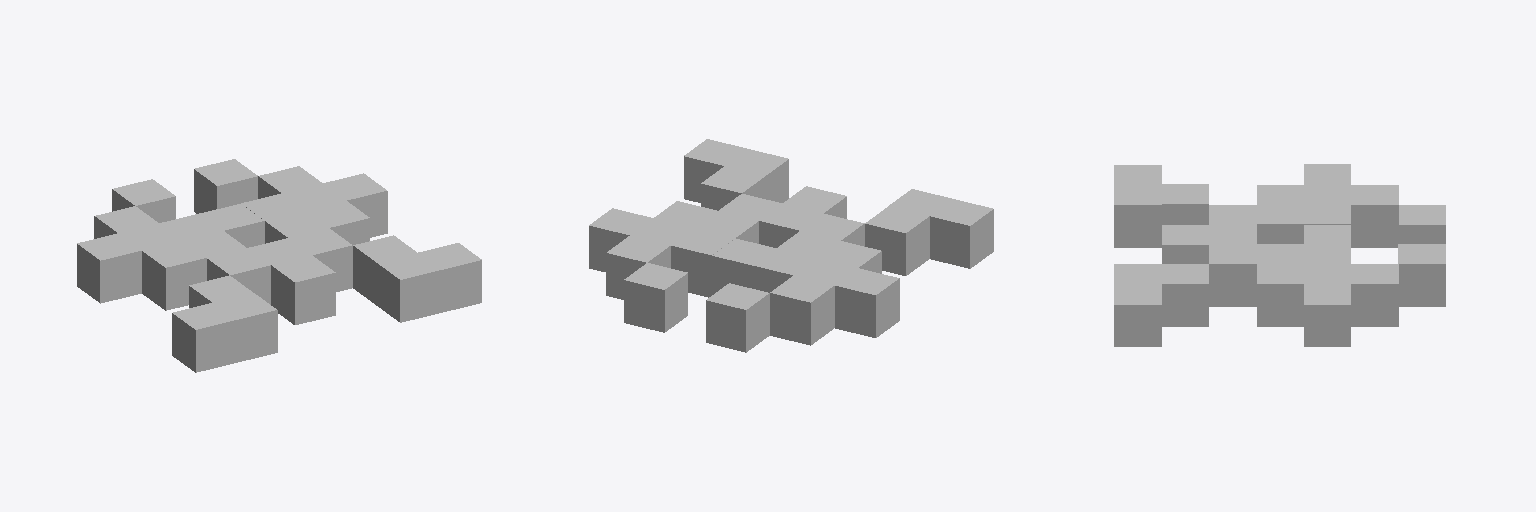
File: cubo3.obj
3 views of the same model, side by side, from view 1: azimuth 30°, elevation 25°; view 2: azimuth 150°, elevation 25°; view 3: azimuth 270°, elevation 25° (orthographic).
Parts seen in each view (by area): view 1: Object.11, Object.22, Object.19, Object.24, Object.12, Object.25, Object.21, Object.3, Object.18, Object.6, Object.23, Object.16 (+13 smaller); view 2: Object.1, Object.11, Object.3, Object.22, Object.2, Object.20, Object.7, Object.4, Object.8, Object.6, Object.25, Object.23 (+13 smaller); view 3: Object.4, Object.16, Object.21, Object.25, Object.1, Object.3, Object.6, Object.15, Object.23, Object.20, Object.2, Object.13 (+13 smaller).
Part boxes in pixels (bbox=[...]): Object.11: bbox=[77, 233, 141, 303]; Object.22: bbox=[172, 303, 236, 372]; Object.19: bbox=[271, 255, 335, 324]; Object.24: bbox=[377, 253, 440, 322]; Object.12: bbox=[142, 241, 206, 310]; Object.25: bbox=[418, 243, 481, 312]; Object.21: bbox=[214, 293, 277, 362]; Object.3: bbox=[194, 159, 257, 213]; Object.18: bbox=[207, 248, 270, 304]; Object.6: bbox=[323, 173, 387, 237]; Object.23: bbox=[353, 235, 416, 305]; Object.16: bbox=[289, 228, 352, 291]; Object.1: bbox=[770, 275, 834, 345]; Object.11: bbox=[835, 268, 899, 337]; Object.3: bbox=[624, 263, 687, 332]; Object.22: bbox=[930, 199, 993, 268]; Object.2: bbox=[706, 283, 769, 352]; Object.20: bbox=[865, 206, 929, 275]; Object.7: bbox=[671, 228, 734, 297]; Object.4: bbox=[606, 236, 670, 299]; Object.8: bbox=[712, 238, 775, 294]; Object.6: bbox=[589, 208, 652, 271]; Object.25: bbox=[684, 139, 746, 202]; Object.23: bbox=[701, 166, 765, 210]; Object.4: bbox=[1351, 264, 1398, 326]; Object.16: bbox=[1209, 244, 1256, 306]; Object.21: bbox=[1114, 185, 1161, 247]; Object.25: bbox=[1114, 284, 1161, 346]; Object.1: bbox=[1351, 185, 1398, 247]; Object.3: bbox=[1398, 244, 1445, 306]; Object.6: bbox=[1304, 284, 1350, 346]; Object.15: bbox=[1257, 264, 1303, 326]; Object.23: bbox=[1162, 264, 1208, 326]; Object.20: bbox=[1162, 184, 1208, 224]; Object.2: bbox=[1399, 205, 1445, 243]; Object.13: bbox=[1257, 205, 1303, 243].
Bounding box in the file's own units: 0.8244 × 0.1183 × 0.8234.